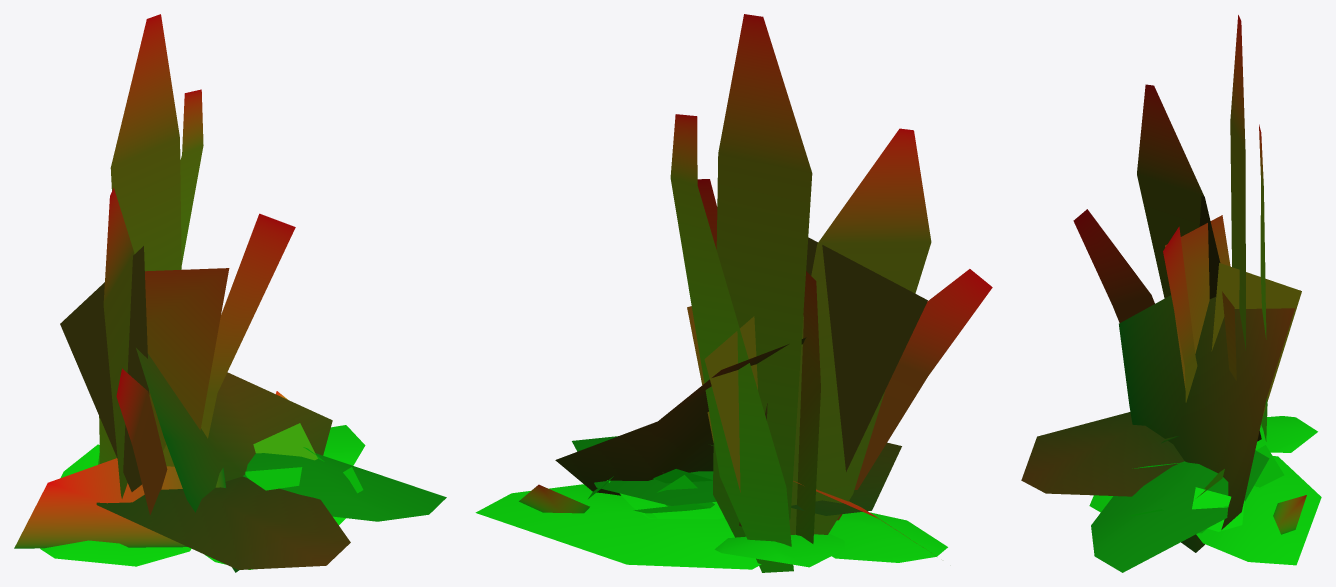
File: DrySet01_Var2_LOD1.fbx
3 renders of one model, left to right at view 1: azimuth 30°, elevation 25°; view 2: azimuth 150°, elevation 25°; view 3: azimuth 270°, elevation 25°, orthographic. The views are drawn at different scales.
Parts seen in each view (by area): view 1: DrySet01_Var2_LOD1; view 2: DrySet01_Var2_LOD1; view 3: DrySet01_Var2_LOD1.
Part boxes in pixels (x1=…): DrySet01_Var2_LOD1: x1=14, y1=14, x2=446, y2=572; DrySet01_Var2_LOD1: x1=475, y1=14, x2=992, y2=572; DrySet01_Var2_LOD1: x1=1021, y1=15, x2=1321, y2=572.
Size of the model in its own units: 86.16 by 111 by 62.35.
